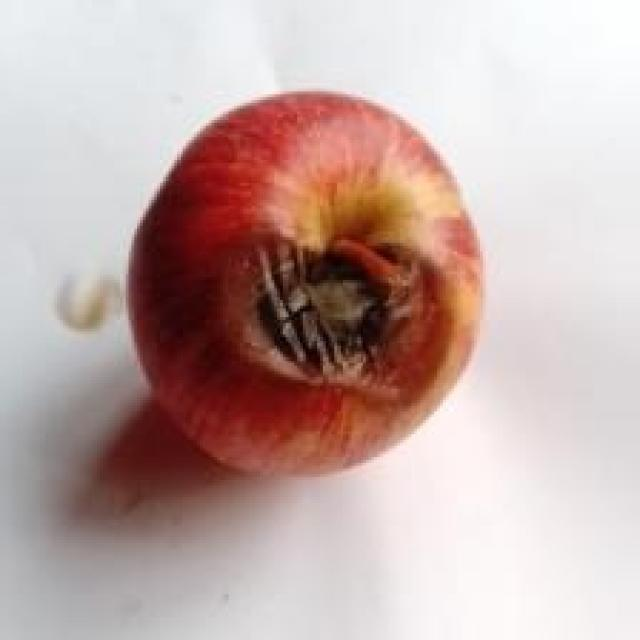rotten apple: (56, 65, 513, 558)
